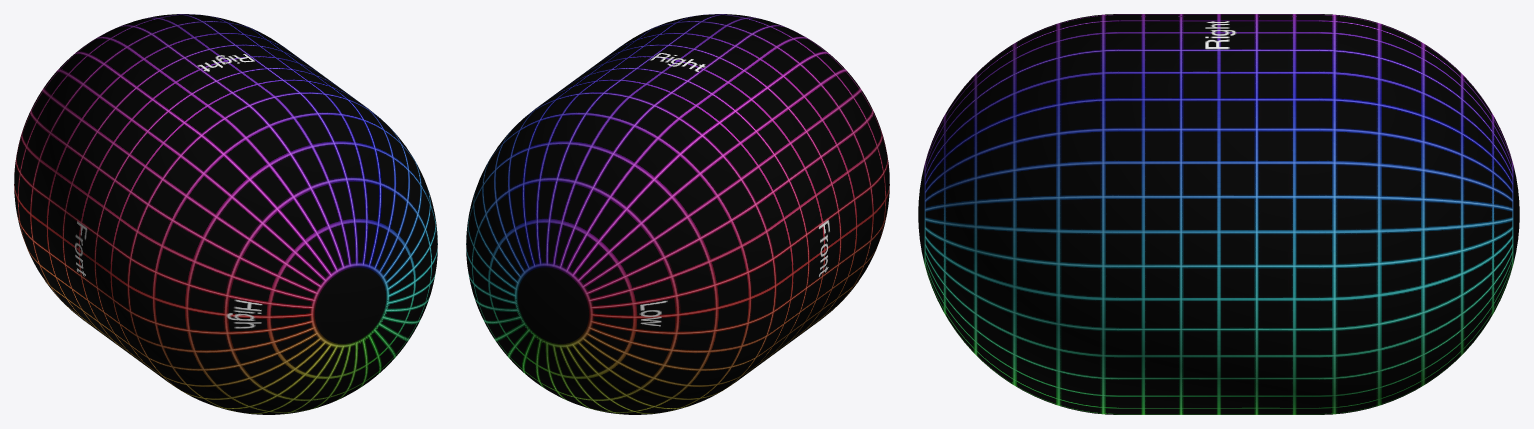
The model's file is shell.obj.
The picture shows the model from 3 angles, left to right: view 1: azimuth 30°, elevation 25°; view 2: azimuth 150°, elevation 25°; view 3: azimuth 270°, elevation 25°; orthographic projection. The views are drawn at different scales.
Bounding box in the file's own units: 2 × 2 × 3.
1 material, 1 textured.
